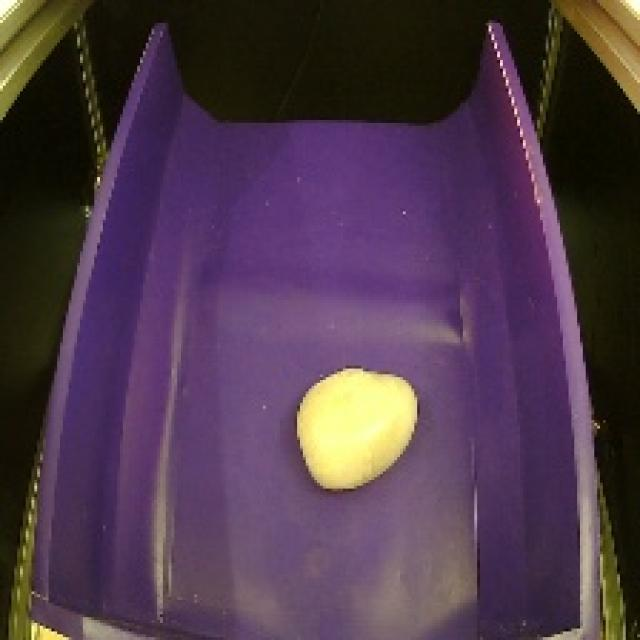cobbles: (285, 352, 426, 498)
